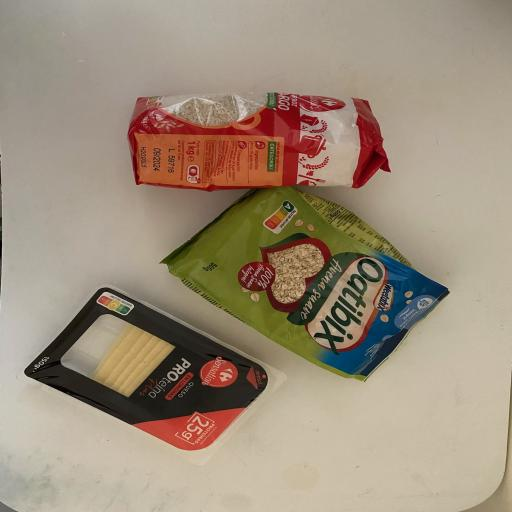cheese: (20, 283, 286, 461)
oat: (157, 186, 453, 388)
rice: (126, 89, 394, 196)
